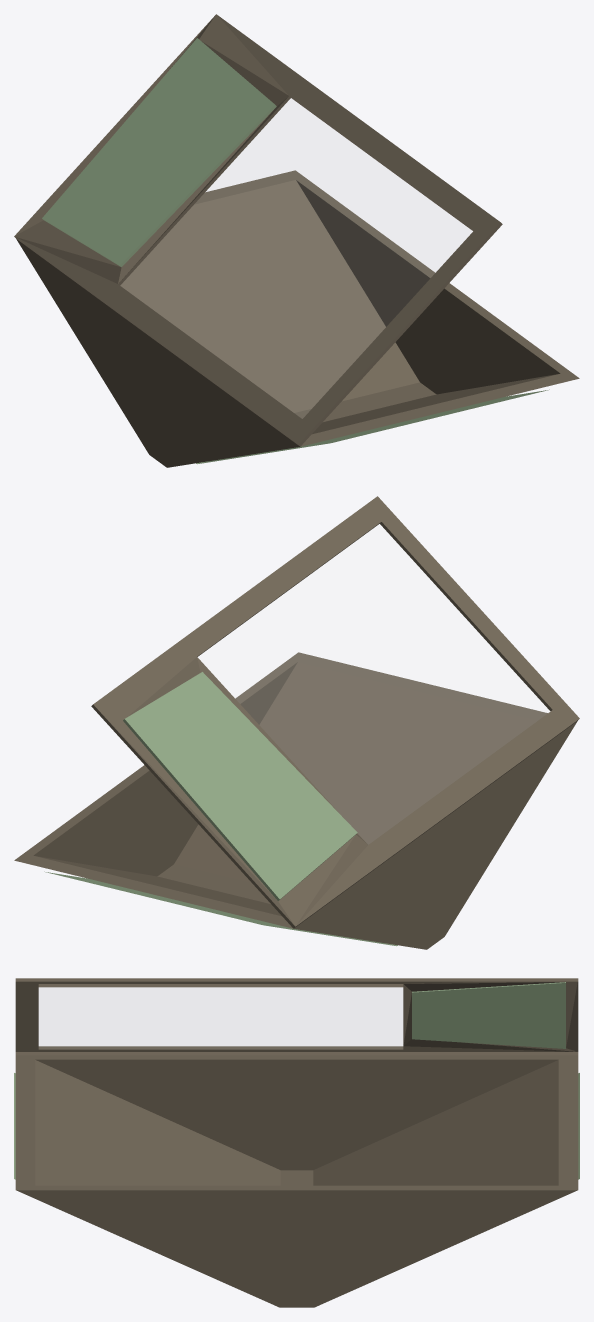
File: sandwich_packaging_v3.fbx
The picture shows the model from 3 angles, top to bottom: view 1: azimuth 30°, elevation 25°; view 2: azimuth 150°, elevation 25°; view 3: azimuth 270°, elevation 25°; orthographic projection.
Parts seen in each view (by area): view 1: polySurface4, polySurface5, polySurface2; view 2: polySurface4, polySurface5, polySurface2; view 3: polySurface4, polySurface5, polySurface2.
Part boxes in pixels (x1,y1,x2,y2): polySurface4: (14, 14, 579, 467); polySurface5: (42, 38, 276, 266); polySurface2: (196, 389, 549, 464); polySurface4: (14, 496, 579, 949); polySurface5: (123, 672, 357, 900); polySurface2: (44, 871, 397, 946); polySurface4: (15, 978, 578, 1307); polySurface5: (412, 982, 565, 1048); polySurface2: (14, 1073, 579, 1179).
Bounding box in the file's own units: 2.8 × 2.83 × 4.93.
